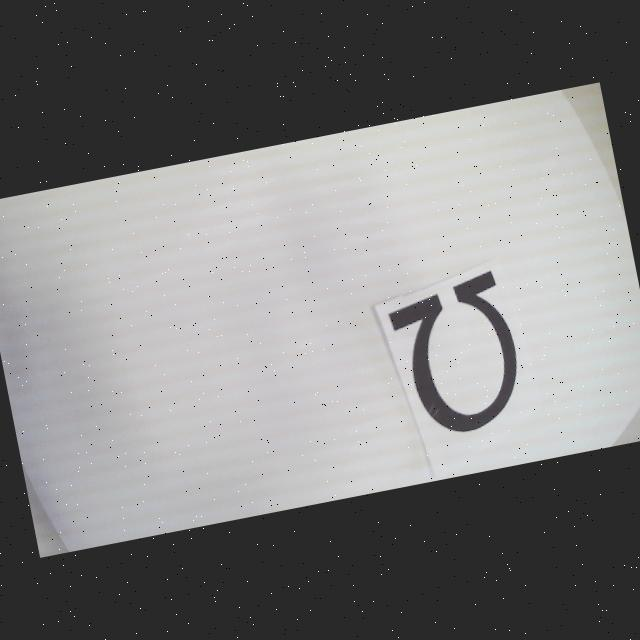OMEGA: (384, 268, 530, 443)
